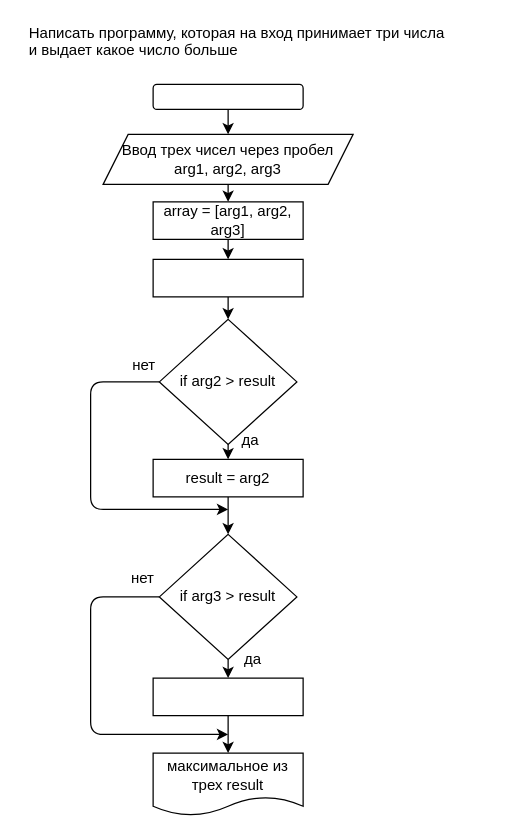
The diagram is 518 pixels wide and 838 high, and some of its shapes have lost their labels. Each missing label, with the box of its shape:
result = arg1: (152, 258, 303, 297)
result = arg3: (152, 677, 303, 716)
Начало: (152, 83, 303, 109)
